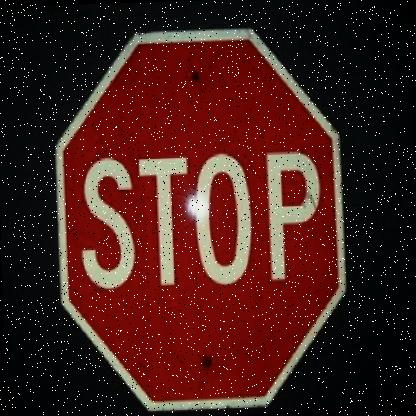stop: (48, 22, 351, 413)
